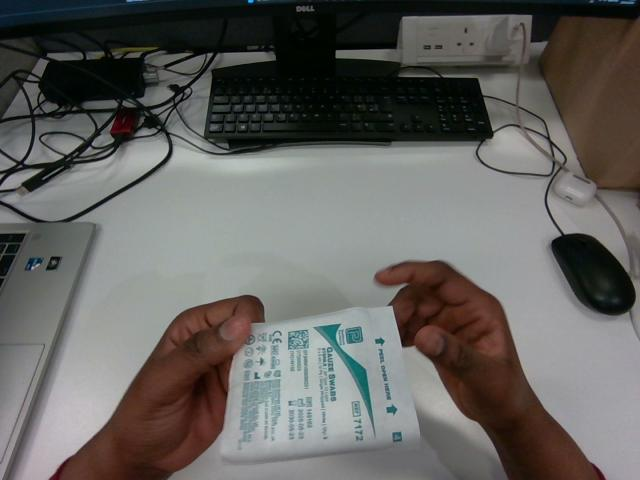gauze: (221, 307, 418, 462)
